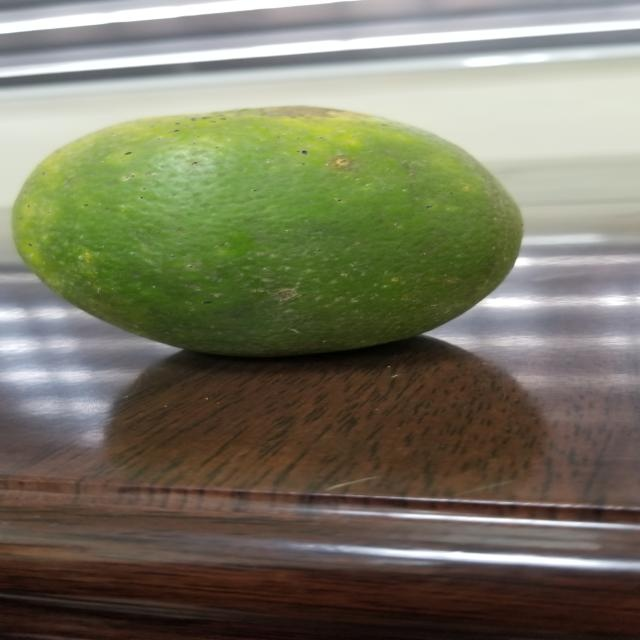agrume: (16, 90, 588, 363)
